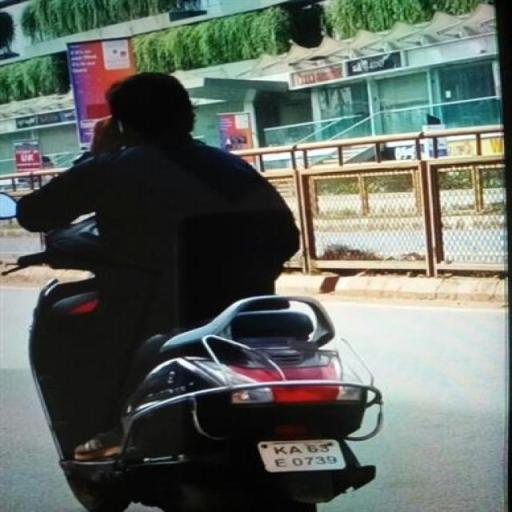numberplate: (255, 430, 349, 475)
using mobile: (84, 112, 135, 159)
